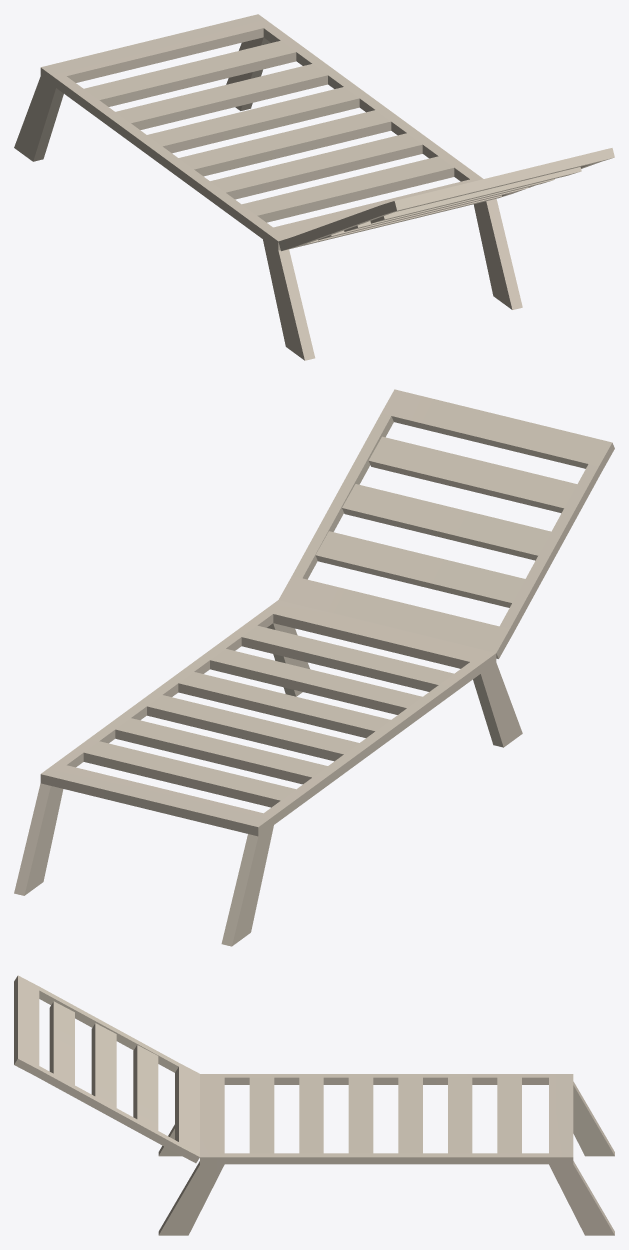
The model's file is Beach Bench.fbx.
The picture shows the model from 3 angles, top to bottom: view 1: azimuth 30°, elevation 25°; view 2: azimuth 150°, elevation 25°; view 3: azimuth 270°, elevation 25°; orthographic projection. The views are drawn at different scales.
Visible parts, largest first — view 1: pCube157; view 2: pCube157; view 3: pCube157.
Part boxes in pixels (x1,y1,x2,y2): pCube157: (14, 14, 614, 360); pCube157: (14, 389, 614, 946); pCube157: (14, 975, 614, 1235).
Bounding box in the file's own units: 0.4966 × 0.4913 × 1.51.
1 material, 1 textured.
